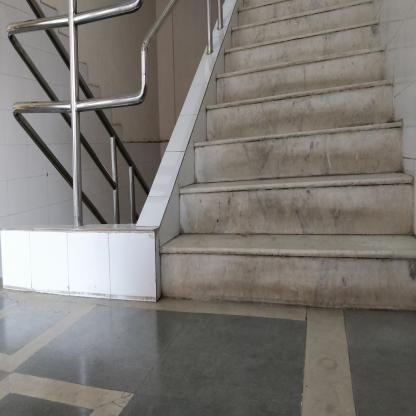stairs: (229, 34, 375, 319)
